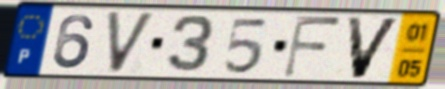3: (165, 13, 219, 75)
5: (221, 16, 272, 75)
6: (53, 13, 96, 71)
F: (280, 13, 345, 80)
V: (344, 15, 404, 82), (104, 9, 159, 76)
